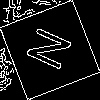N: (25, 25, 81, 76)
